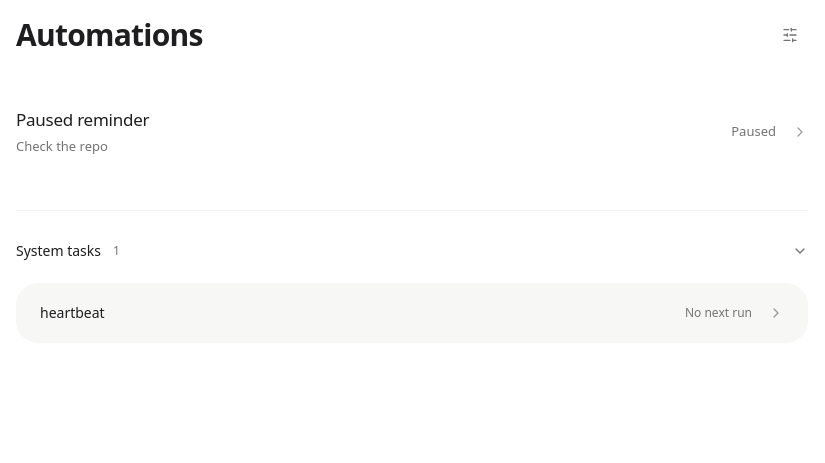
Scenario: Settings system domains › wraps automation filters and keeps every option selectable
The width and height of the screenshot is (825, 463).
Click the button named "Search and filter": (790, 35) [772,17,808,53]
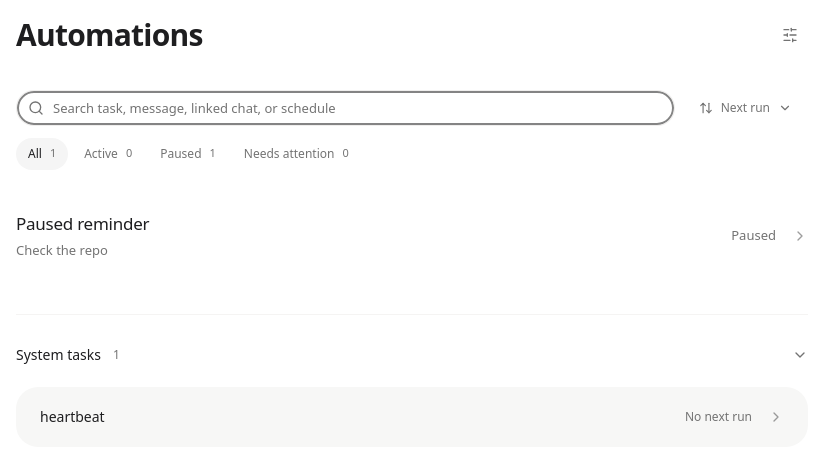
Expected: the button "heartbeat No next run" is shown, [16,386,808,446]
Click the button "Paused 1": (188, 154) [148,138,228,170]
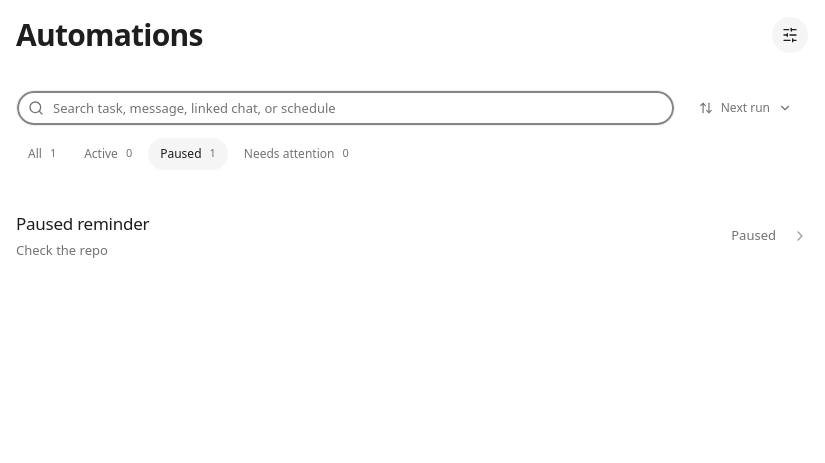
Expected: the button "Paused reminder Check the repo Paused" is shown, [16,190,808,282]
Now the button "heartbeat" is gone
